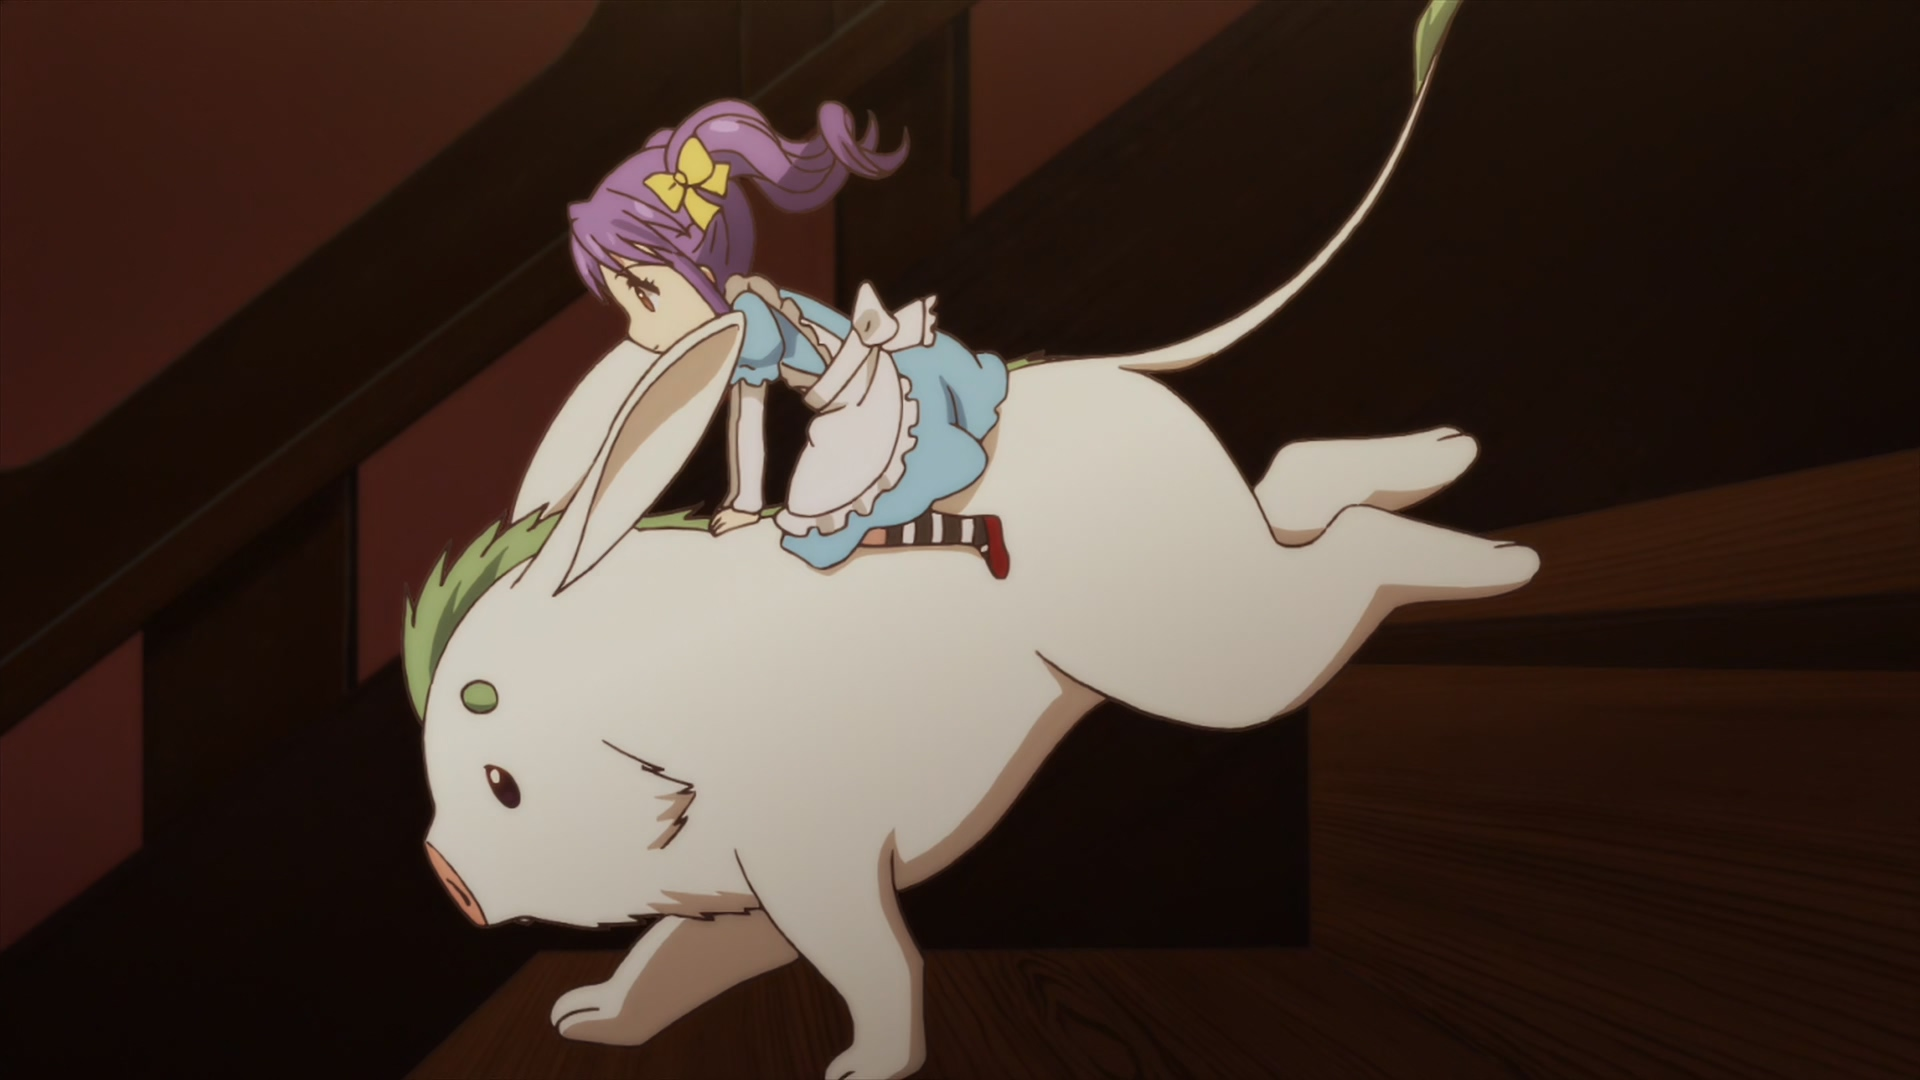瓜之介: (402, 1, 1540, 1080)
阿菊: (570, 98, 1011, 583)
